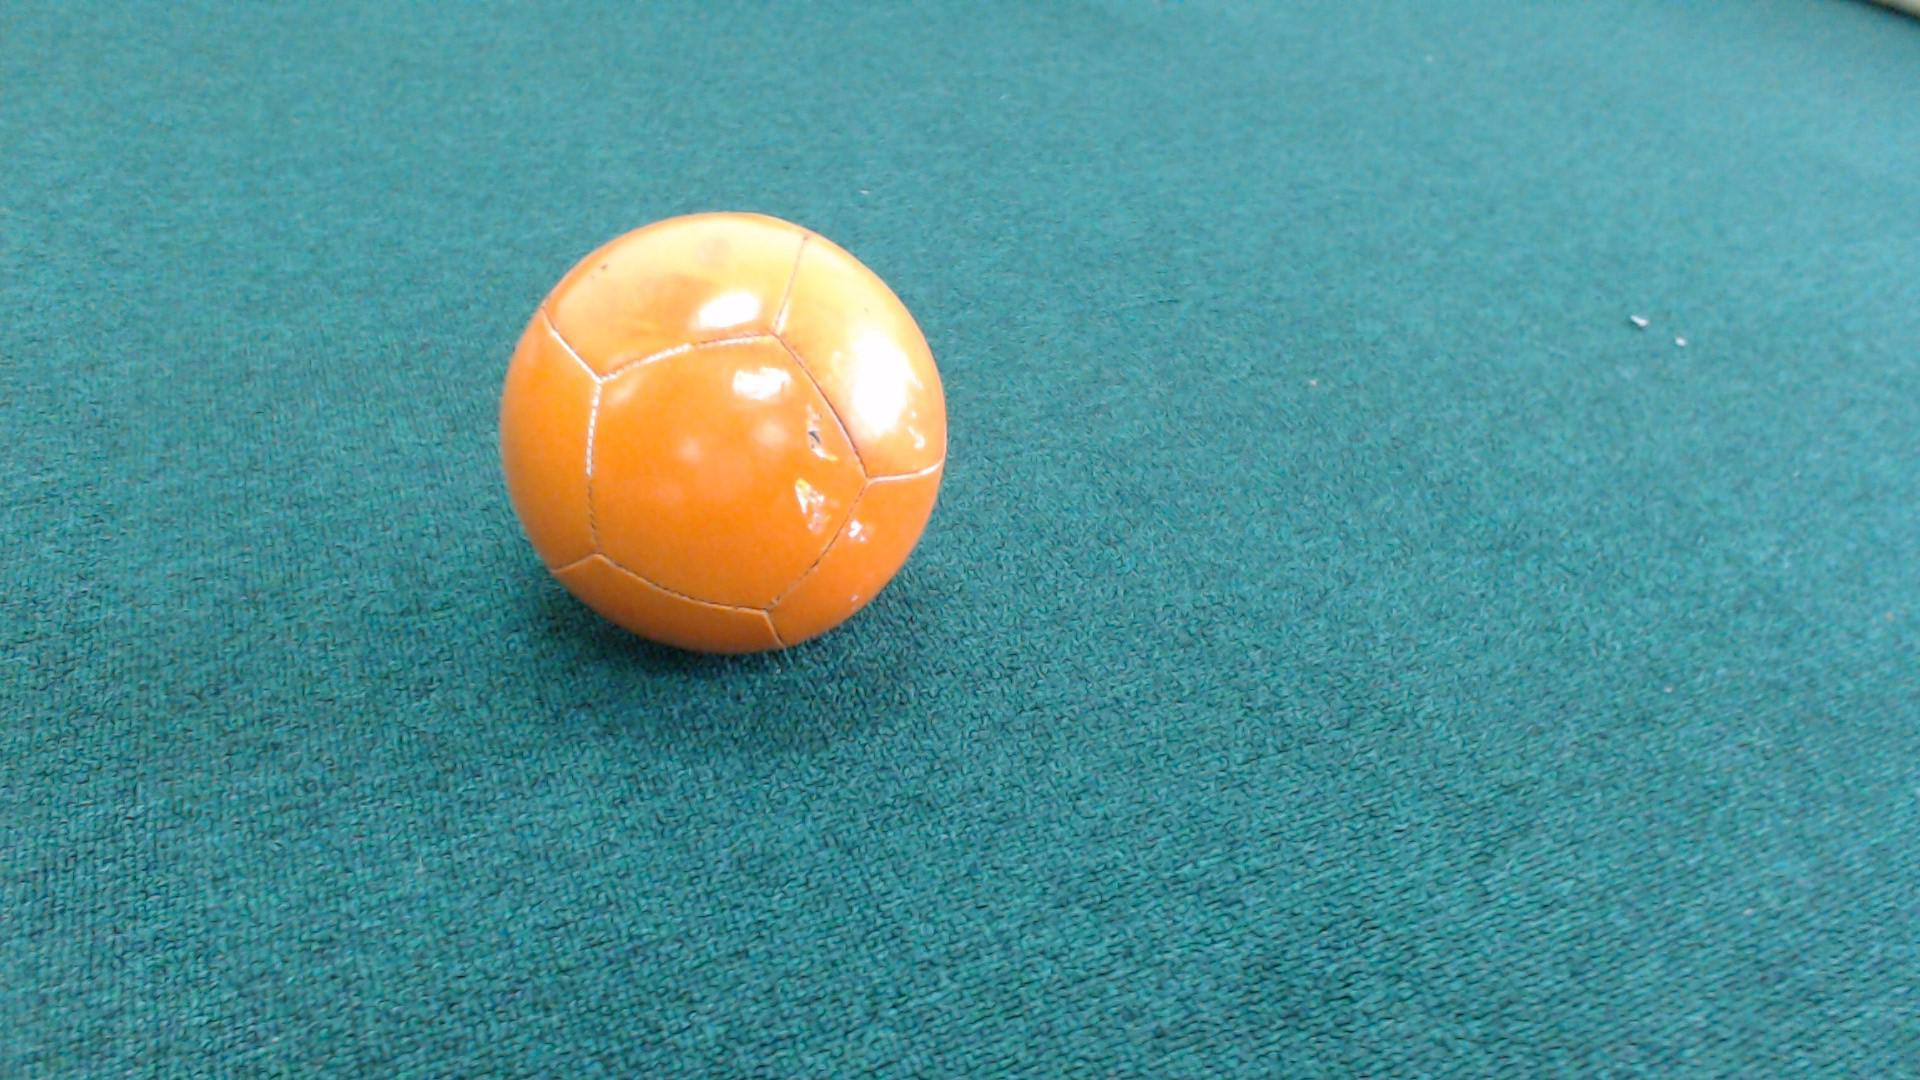bola: (468, 195, 986, 692)
